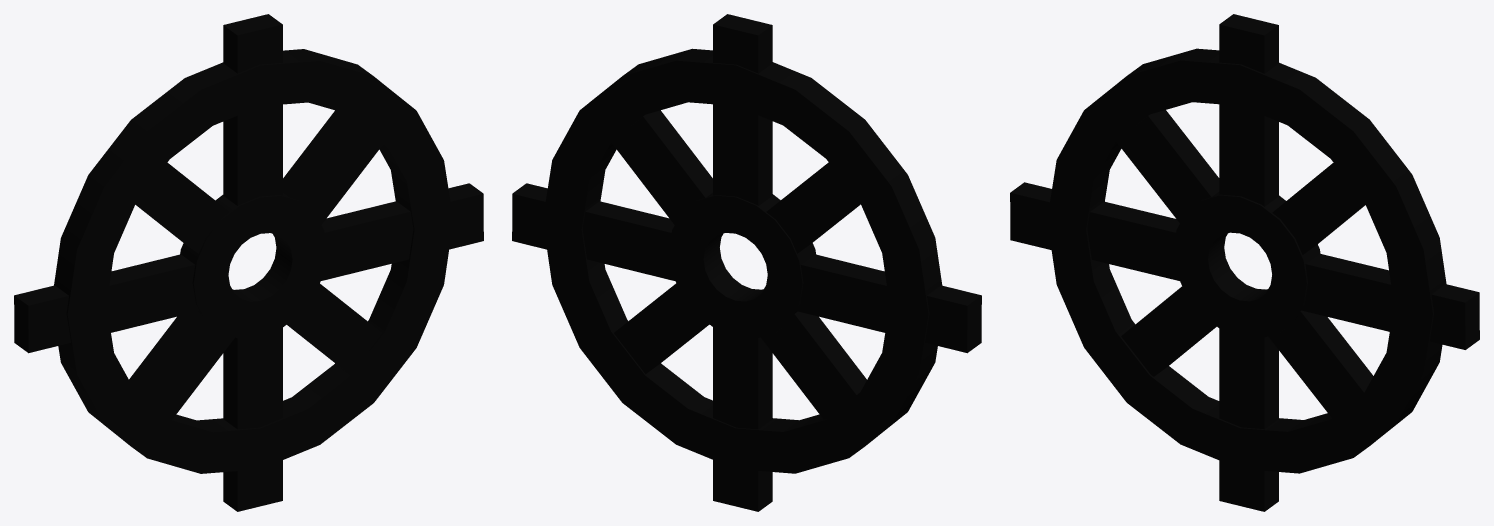
Rendered from BuddhistWheelSymbol.glb.
3 views of the same model, side by side, from view 1: azimuth 30°, elevation 25°; view 2: azimuth 150°, elevation 25°; view 3: azimuth 330°, elevation 25° (orthographic).
Parts seen in each view (by area): view 1: BuddhistWheelSymbol; view 2: BuddhistWheelSymbol; view 3: BuddhistWheelSymbol.
Boxes of the visible parts, box(x1,y1,x2,y2) form: BuddhistWheelSymbol: box(14, 14, 483, 511); BuddhistWheelSymbol: box(512, 14, 981, 511); BuddhistWheelSymbol: box(1010, 14, 1479, 511).
Bounding box in the file's own units: 0.00993 × 0.00993 × 0.000611.
Materials: 1 (1 with a texture image).
